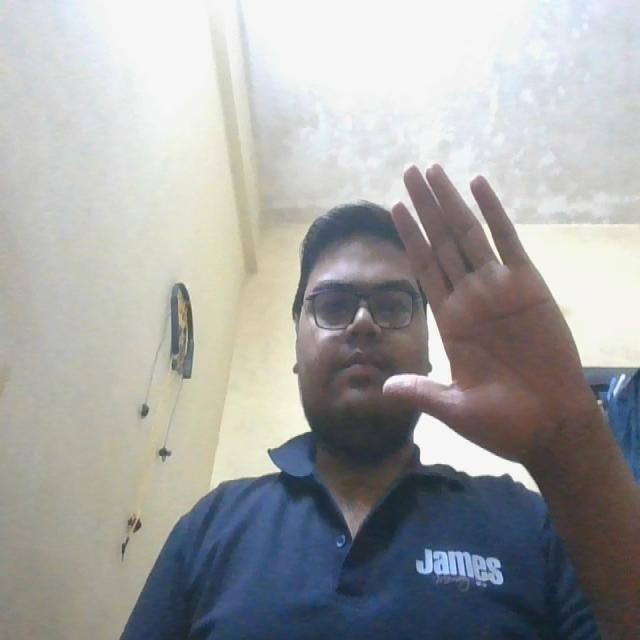Hello: (364, 146, 598, 471)
